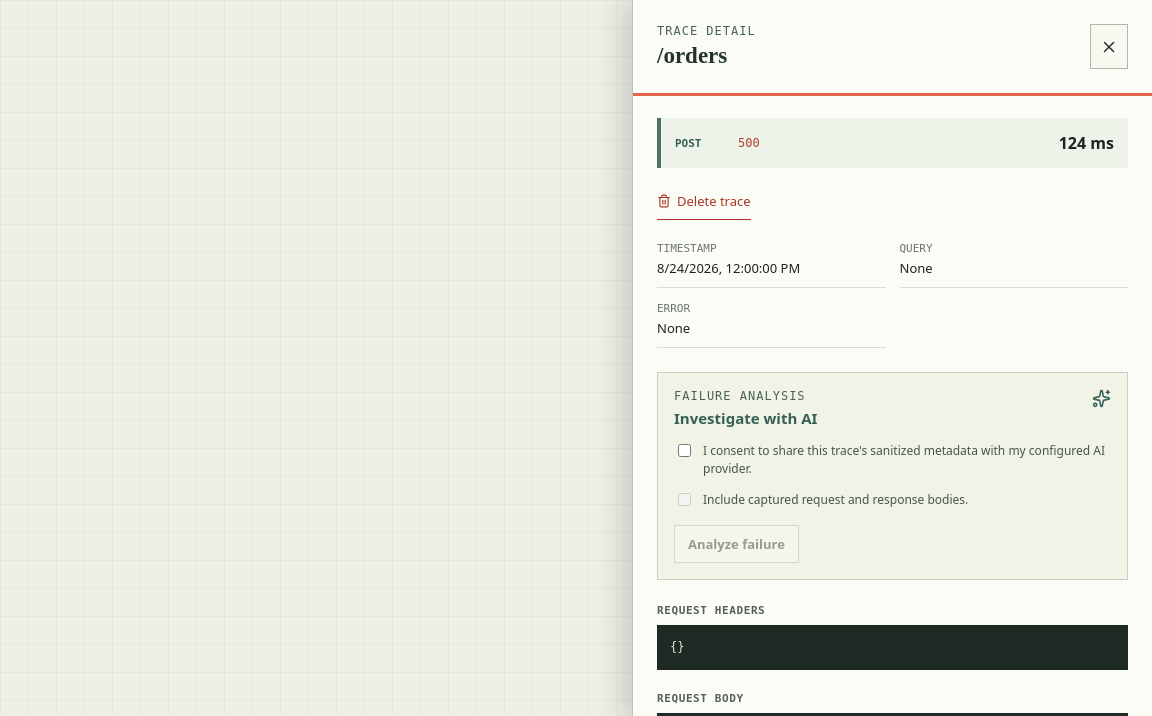
Test: TraceDetail failure analysis › renders a structured successful analysis
The width and height of the screenshot is (1152, 716).
Click the checkbox labelled "I consent to share this trace's sanitized metadata" at (684, 451), box [678,444,691,457]
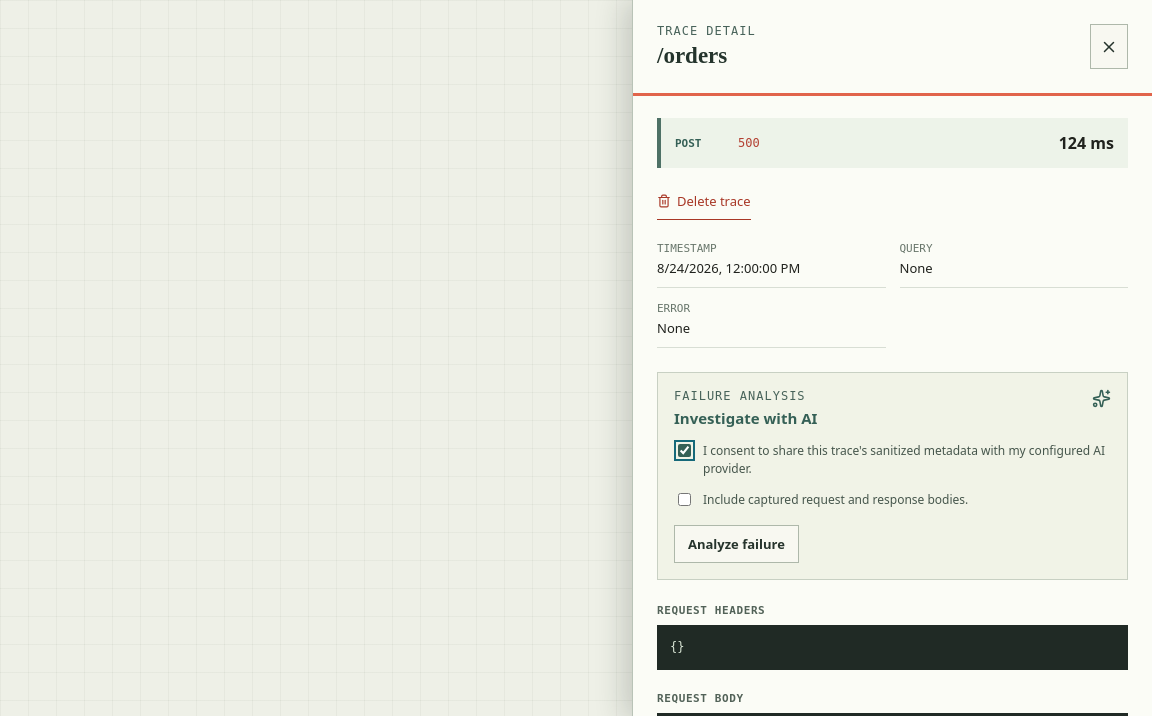
Click the button "Analyze failure" at (736, 544), box [674,525,799,563]
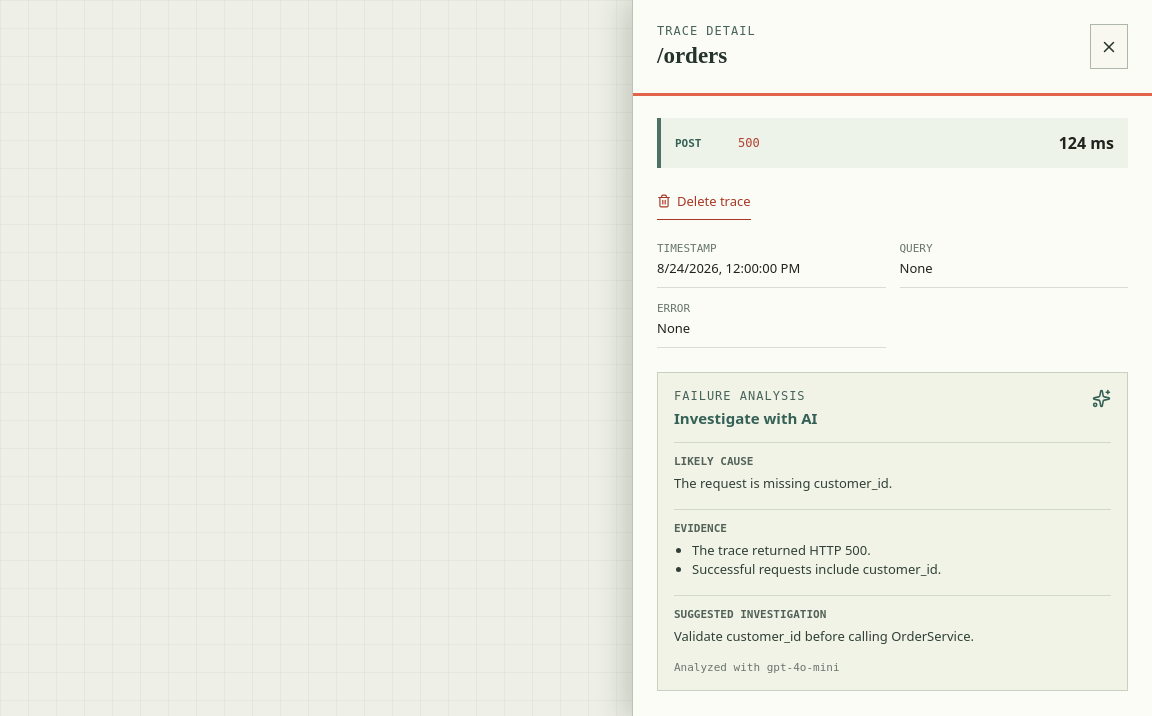
Result: the text "The request is missing customer_id." is shown at [674,474,892,492]
Result: the list item "The trace returned HTTP 500." is shown at [692,541,871,559]
Result: the text "Validate customer_id before calling OrderService." is shown at [674,627,974,645]
